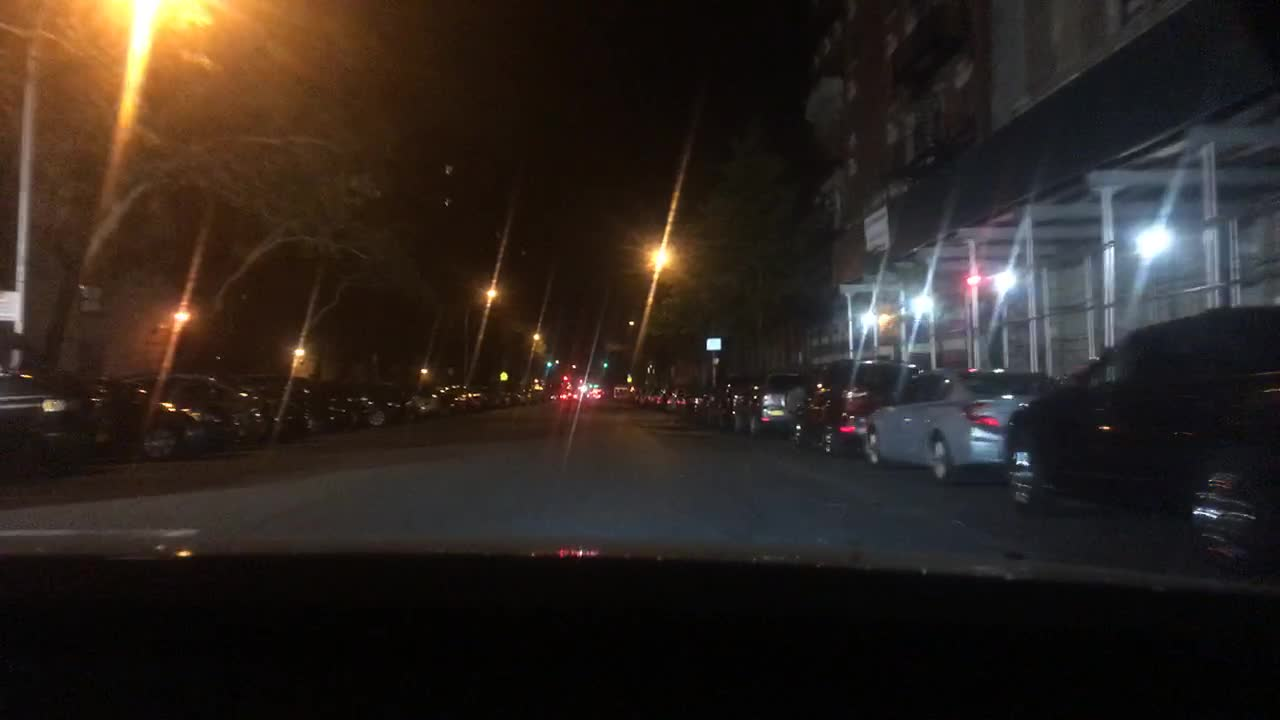car: (1002, 307, 1277, 500), (864, 364, 1057, 474), (792, 361, 916, 454), (91, 373, 220, 456), (0, 364, 88, 468), (226, 373, 324, 433), (752, 370, 803, 424), (327, 379, 382, 428), (379, 382, 434, 417), (723, 378, 751, 427), (693, 385, 720, 422), (668, 382, 693, 410), (460, 382, 478, 413), (437, 384, 457, 411), (491, 381, 505, 408), (651, 384, 665, 404), (529, 387, 546, 402), (584, 389, 604, 401), (563, 387, 580, 401), (636, 387, 648, 405), (551, 390, 560, 402)
traffic light: (542, 355, 552, 369), (598, 361, 610, 371)
traffic sign: (702, 336, 721, 349), (497, 367, 508, 381)
